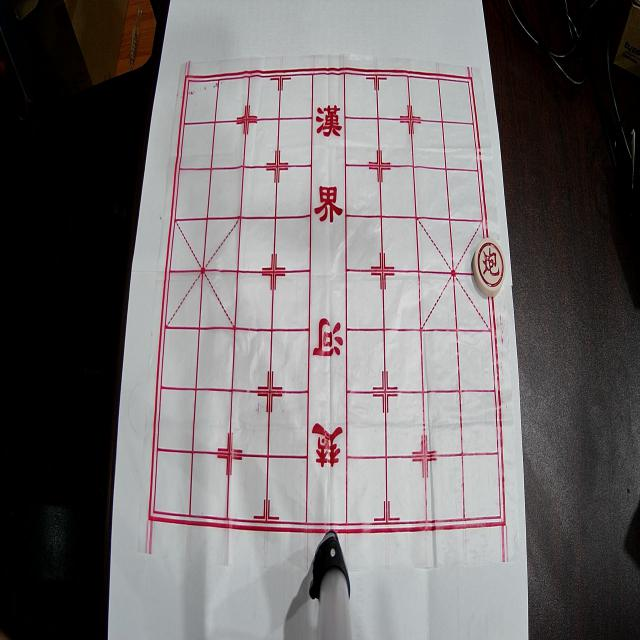red-cannon: (472, 238, 506, 296)
